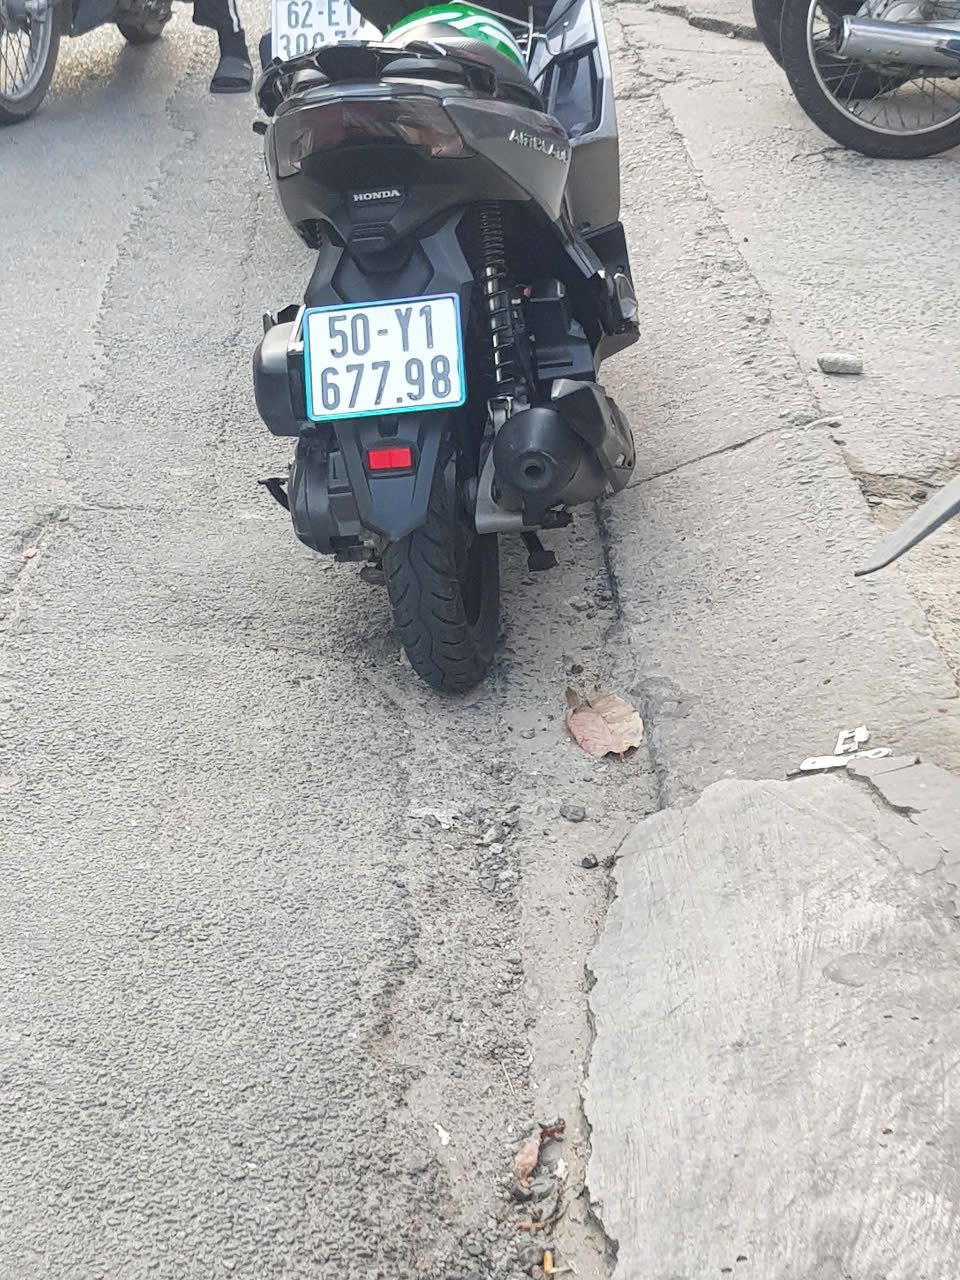bien_so: (306, 296, 463, 421)
